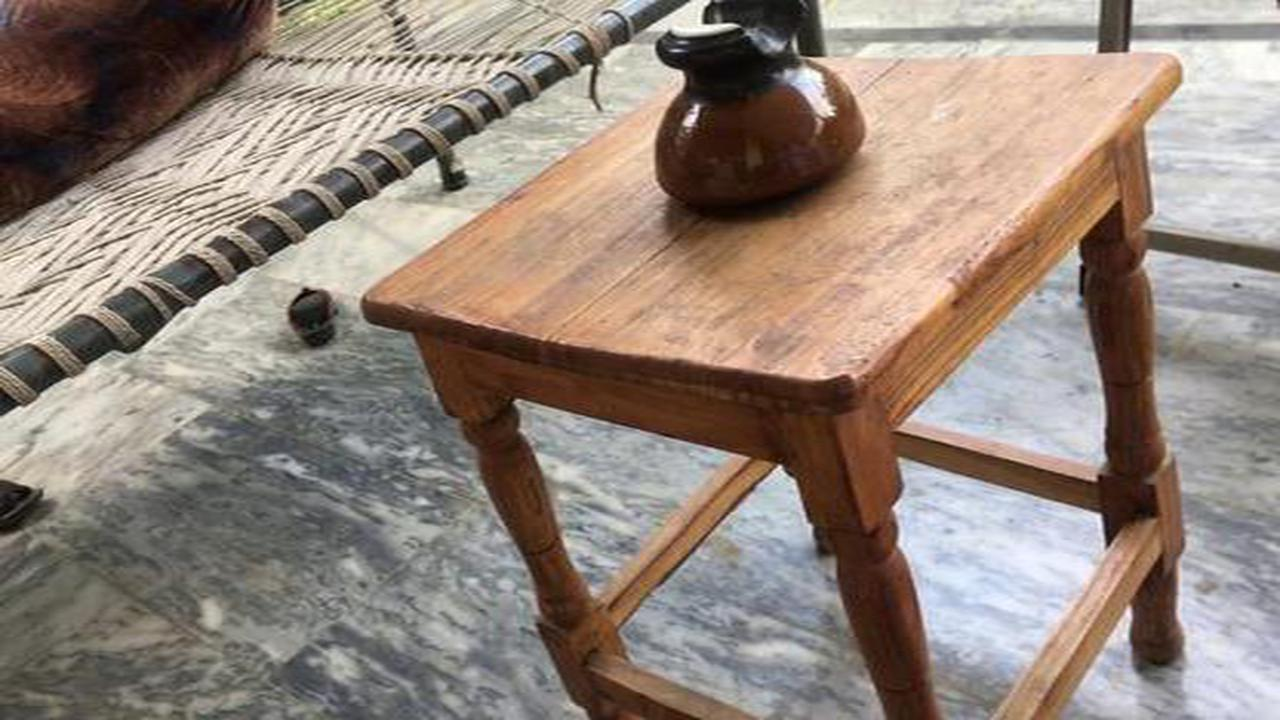insulator_pin: (634, 7, 899, 246)
